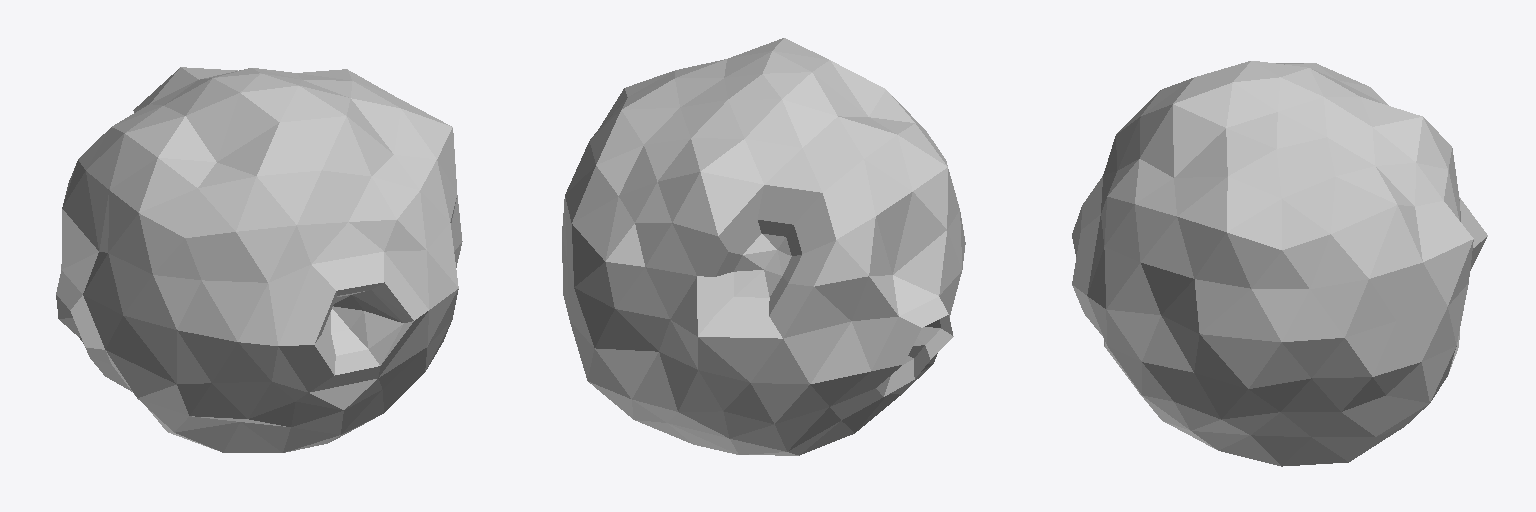
Rendered from SmallAsteroid.obj.
3 views of the same model, side by side, from view 1: azimuth 30°, elevation 25°; view 2: azimuth 150°, elevation 25°; view 3: azimuth 270°, elevation 25° (orthographic).
Parts seen in each view (by area): view 1: METEORO_PEQUEÑO_Icosphere.002; view 2: METEORO_PEQUEÑO_Icosphere.002; view 3: METEORO_PEQUEÑO_Icosphere.002.
Boxes of the visible parts, <box> form: METEORO_PEQUEÑO_Icosphere.002: <box>56,67,462,452</box>; METEORO_PEQUEÑO_Icosphere.002: <box>562,38,965,455</box>; METEORO_PEQUEÑO_Icosphere.002: <box>1072,61,1487,466</box>.
Bounding box in the file's own units: 2.06 × 1.97 × 2.03.